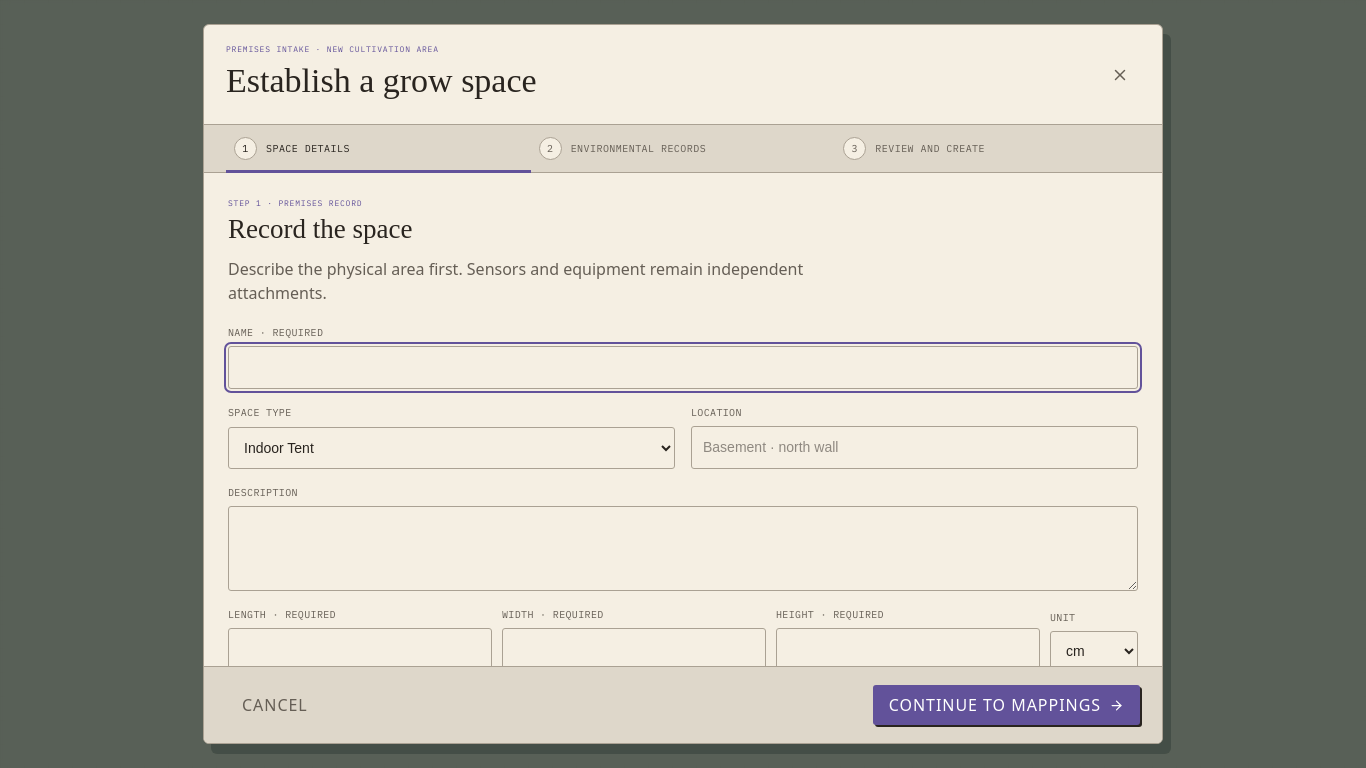
Test case: GrowSpaceWizard › does not advance without required dimensions
Type "North tent" into the field labelled "Name · required" at (683, 367), box [228,346,1138,388]
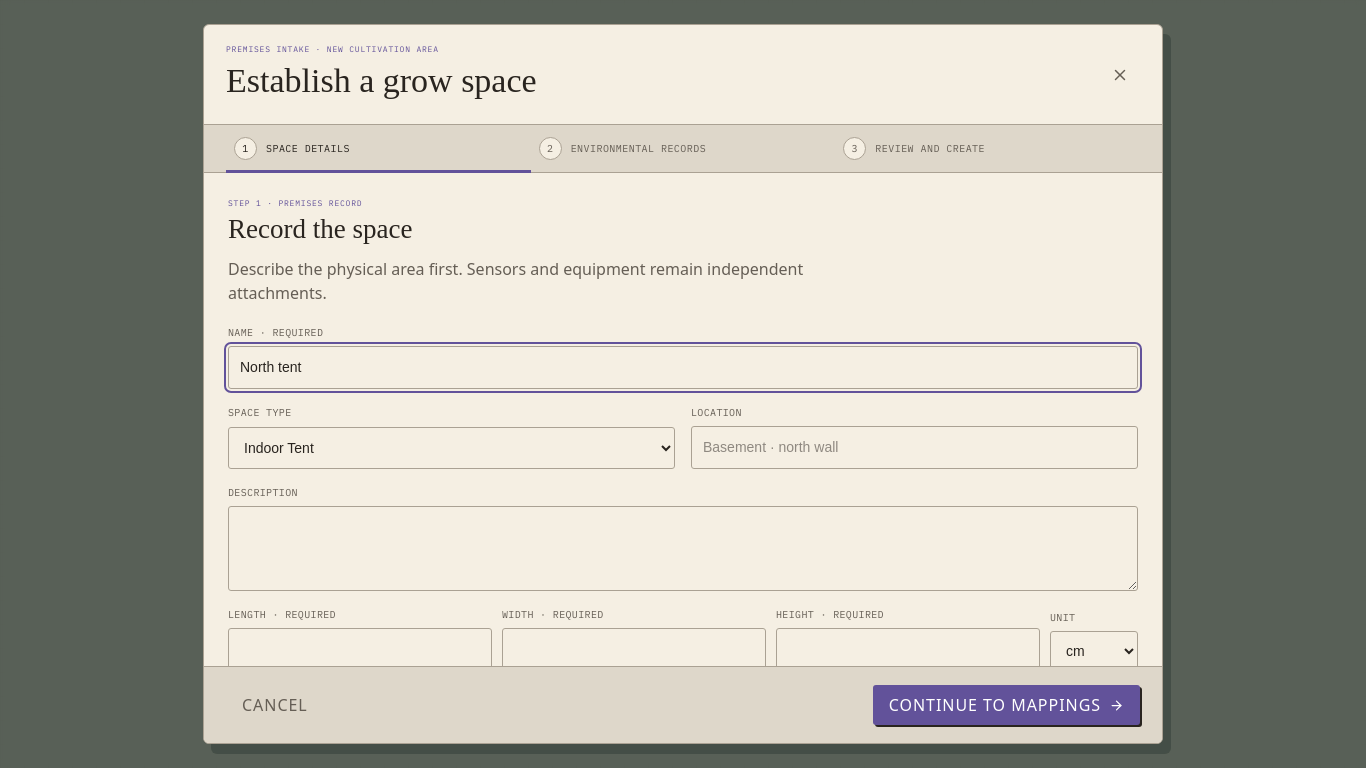
Click the button "Continue to mappings" at (1006, 705), box [873,685,1140,725]
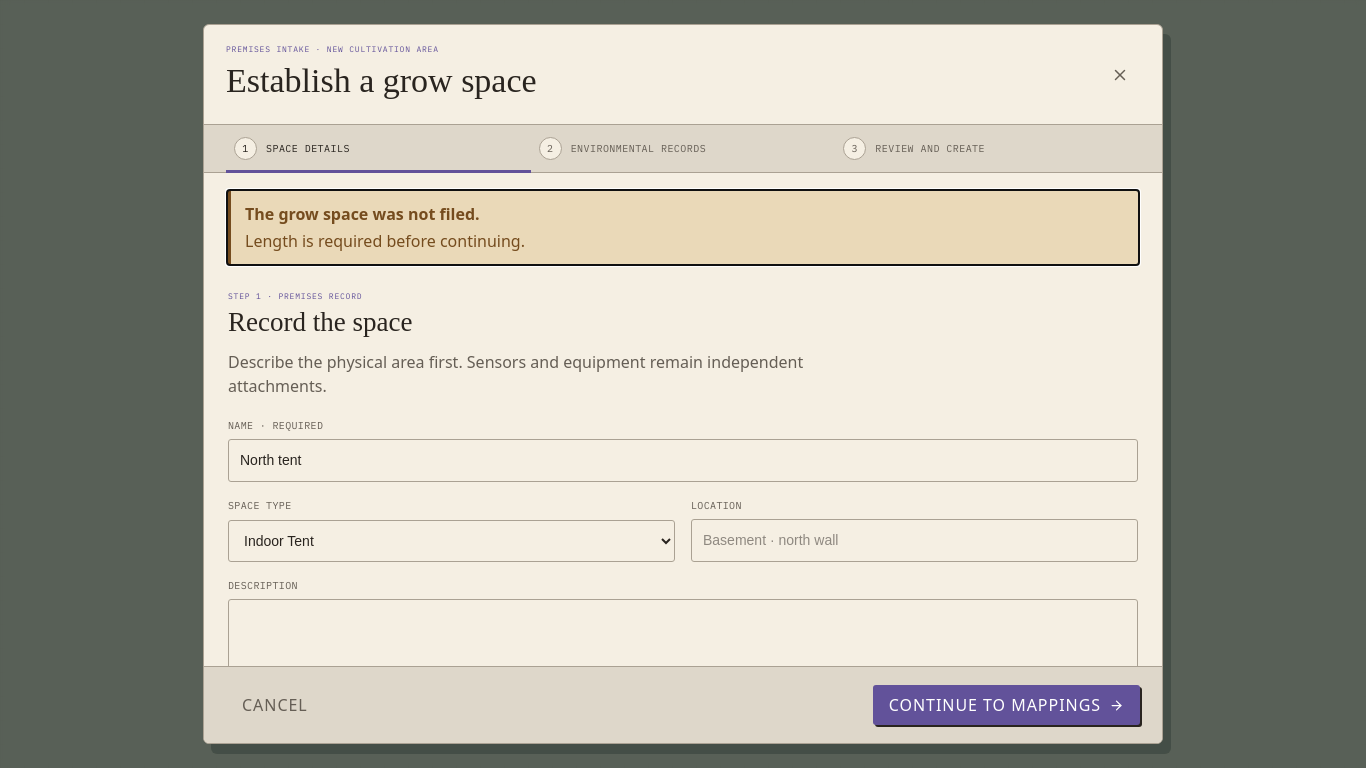
expect the message shows "Length is required": met, box [245,230,525,252]
